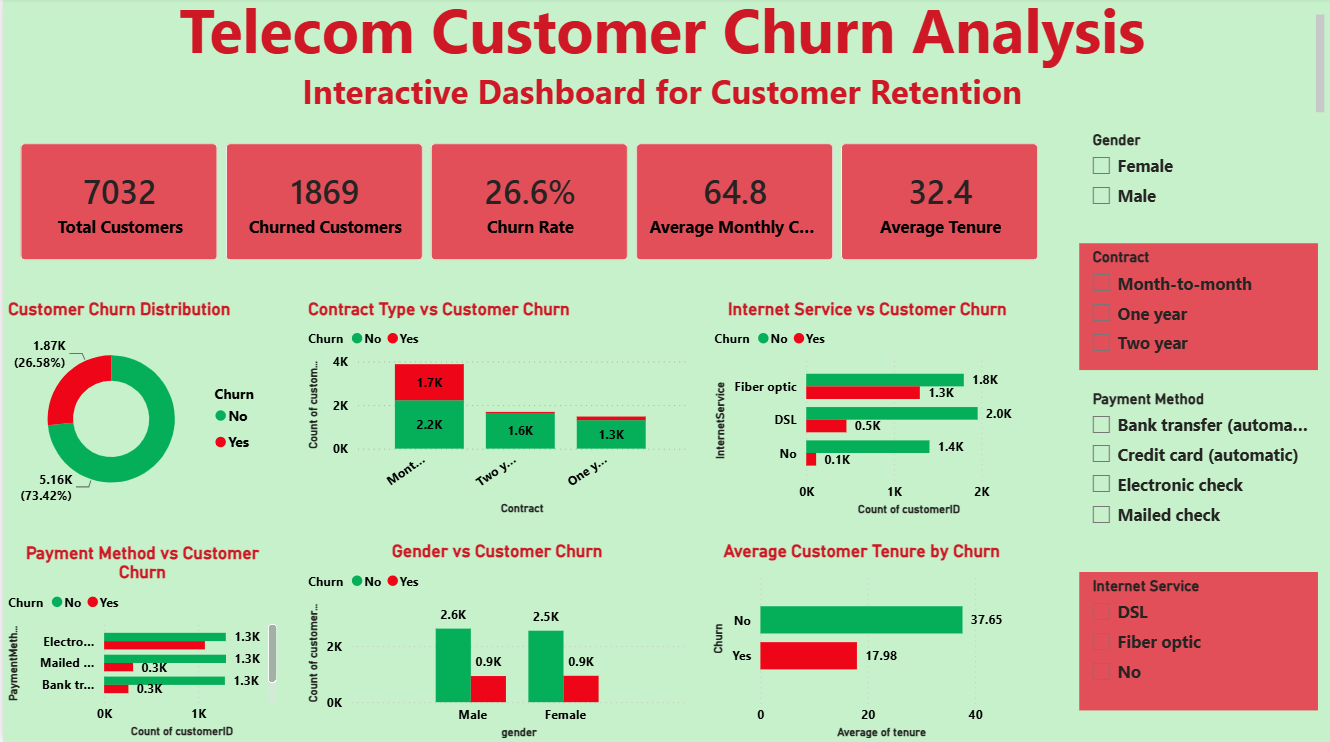

What the dashboard file says about the page in this screenshot:
{"tool":"powerbi","page":{"name":"Page 1","canvas":[1280,720],"ordinal":0},"visuals":[{"type":"cardVisual","fields":{"Data":["cleaned_telco_churn.Total Customers","cleaned_telco_churn.Churned Customers","cleaned_telco_churn.Churn Rate","cleaned_telco_churn.Average Monthly Charges","cleaned_telco_churn.Average Tenure"]},"box":[8.6,0,1270.6,160.4],"z":0},{"type":"donutChart","fields":{"Category":["cleaned_telco_churn.Churn"],"Y":["CountNonNull(cleaned_telco_churn.customerID)"]},"box":[0,160.4,372.2,213.9],"z":1},{"type":"columnChart","fields":{"Category":["cleaned_telco_churn.Contract"],"Series":["cleaned_telco_churn.Churn"],"Y":["CountNonNull(cleaned_telco_churn.customerID)"]},"box":[372.2,160.4,374.3,213.9],"z":2},{"type":"clusteredBarChart","fields":{"Category":["cleaned_telco_churn.InternetService"],"Series":["cleaned_telco_churn.Churn"],"Y":["CountNonNull(cleaned_telco_churn.customerID)"]},"box":[755.1,160.4,524.1,198.9],"z":3},{"type":"clusteredBarChart","fields":{"Category":["cleaned_telco_churn.PaymentMethod"],"Series":["cleaned_telco_churn.Churn"],"Y":["CountNonNull(cleaned_telco_churn.customerID)"]},"box":[0,397.9,297.3,194.7],"z":4},{"type":"columnChart","fields":{"Category":["cleaned_telco_churn.gender"],"Series":["cleaned_telco_churn.Churn"],"Y":["CountNonNull(cleaned_telco_churn.customerID)"]},"box":[372,398,374,195],"z":5}]}

Visuals, with their boxes in screenshot pixels (x1, y1, x2, y2), scaled from the page's 1280x720 canvas onto the 1330x742 screenshot:
cardVisual - cleaned_telco_churn.Total Customers x cleaned_telco_churn.Churned Customers: box(9, 0, 1329, 165)
donutChart - cleaned_telco_churn.Churn x CountNonNull(cleaned_telco_churn.customerID): box(0, 165, 387, 386)
columnChart - cleaned_telco_churn.Contract x cleaned_telco_churn.Churn: box(387, 165, 776, 386)
clusteredBarChart - cleaned_telco_churn.InternetService x cleaned_telco_churn.Churn: box(785, 165, 1329, 370)
clusteredBarChart - cleaned_telco_churn.PaymentMethod x cleaned_telco_churn.Churn: box(0, 410, 309, 611)
columnChart - cleaned_telco_churn.gender x cleaned_telco_churn.Churn: box(387, 410, 775, 611)
